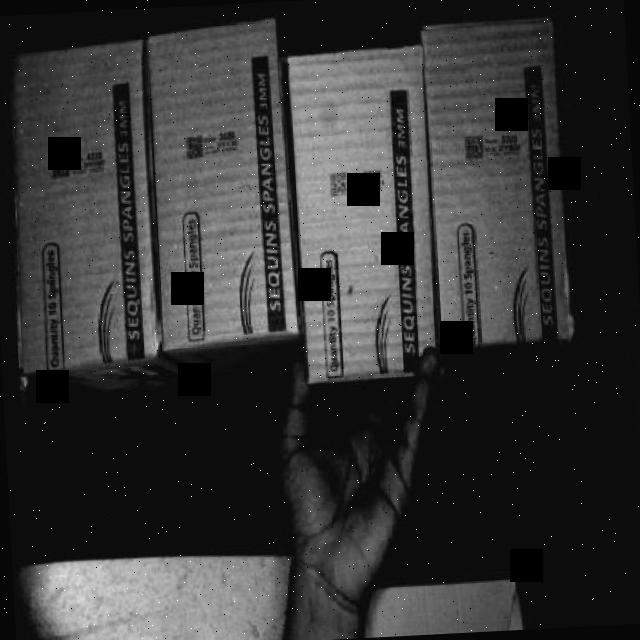box: (289, 43, 442, 381), (422, 19, 576, 342), (152, 29, 300, 354), (9, 50, 156, 372)
